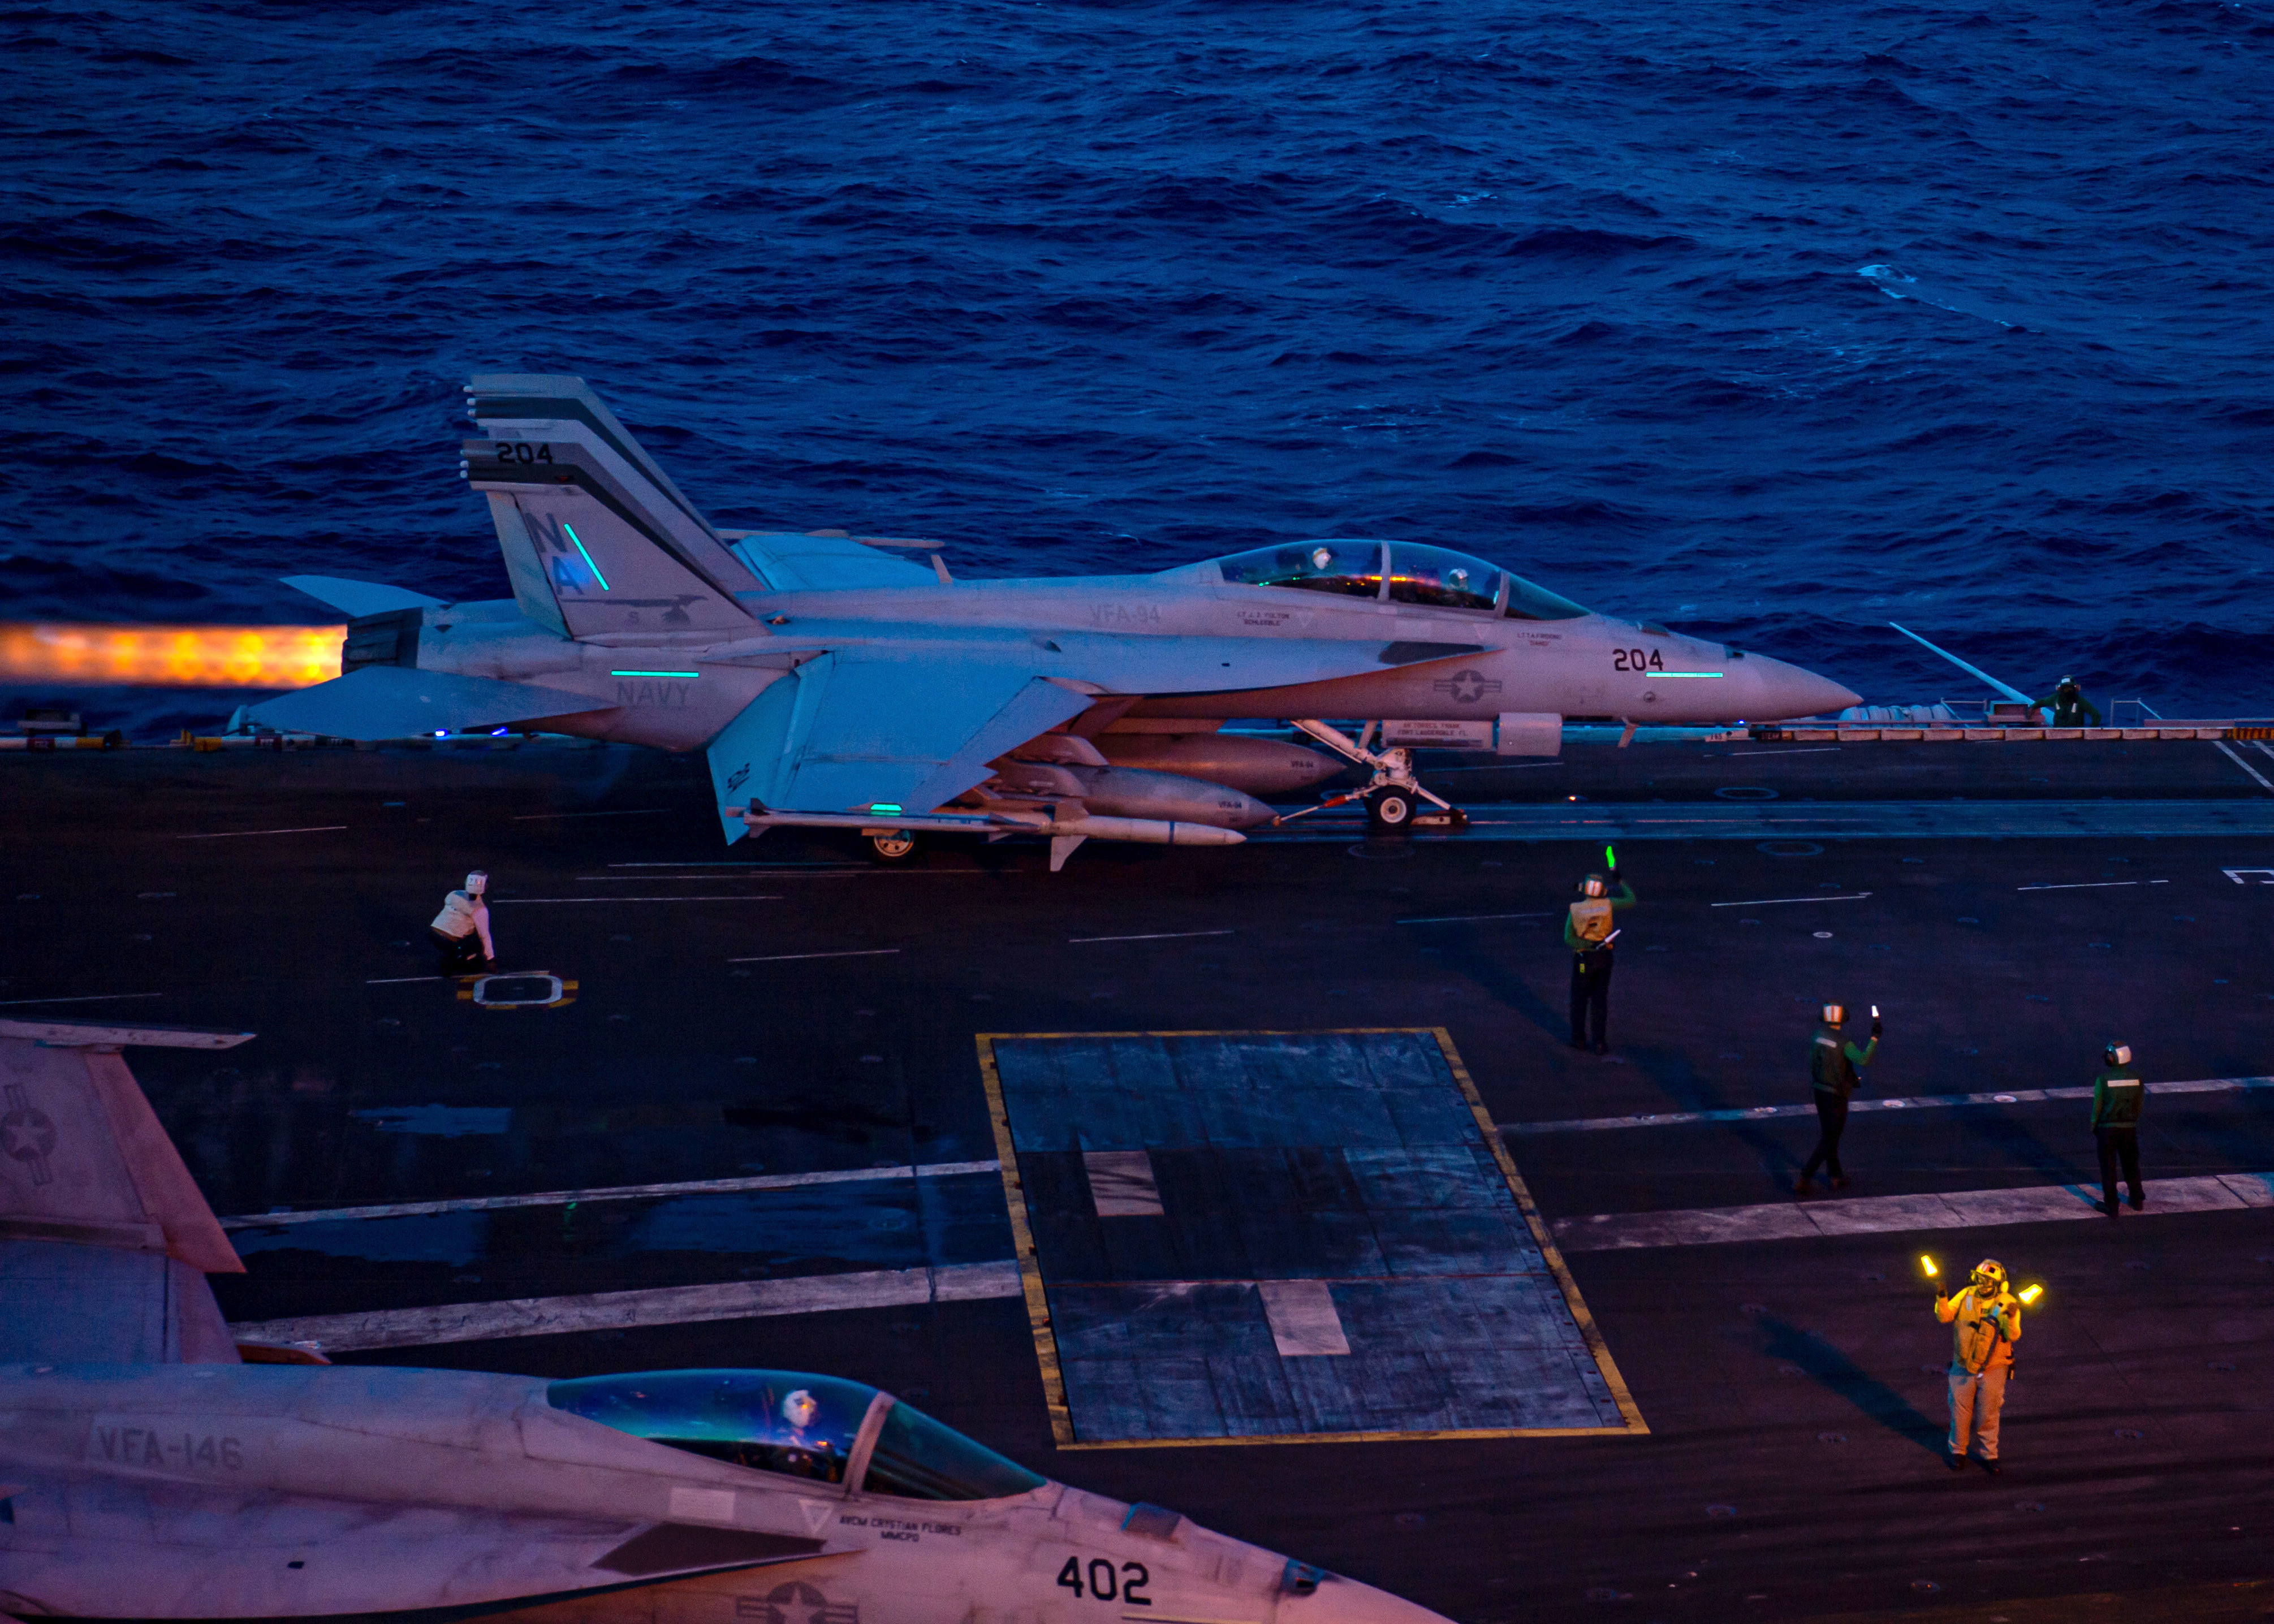airplane: (0, 1019, 1459, 1624), (243, 374, 1865, 872)
